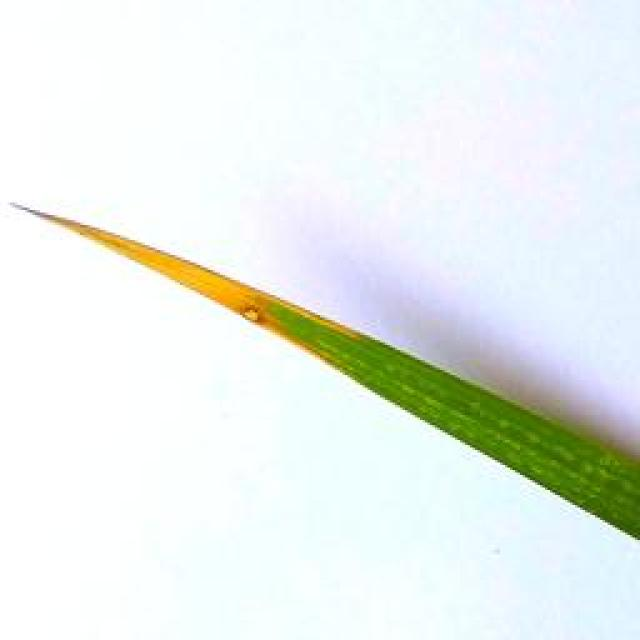Unhealthy: (9, 203, 362, 363)
